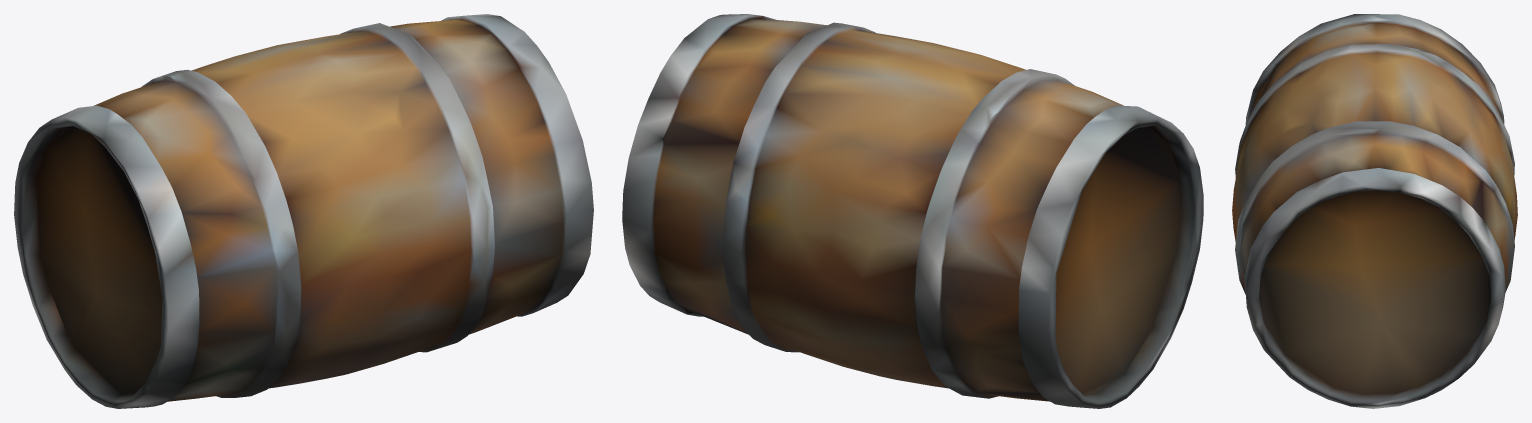
The picture shows the model from 3 angles, left to right: view 1: azimuth 30°, elevation 25°; view 2: azimuth 150°, elevation 25°; view 3: azimuth 270°, elevation 25°; orthographic projection. The views are drawn at different scales.
Parts seen in each view (by area): view 1: barrel-oak-edge; view 2: barrel-oak-edge; view 3: barrel-oak-edge.
Boxes of the visible parts, bbox=[...] form: barrel-oak-edge: bbox=[14, 14, 593, 408]; barrel-oak-edge: bbox=[622, 14, 1203, 408]; barrel-oak-edge: bbox=[1232, 14, 1517, 408].
Bounding box in the file's own units: 1.31 × 0.9011 × 0.9177.
